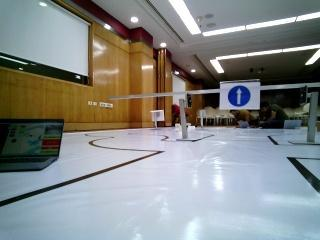straight: (222, 84, 259, 109)
